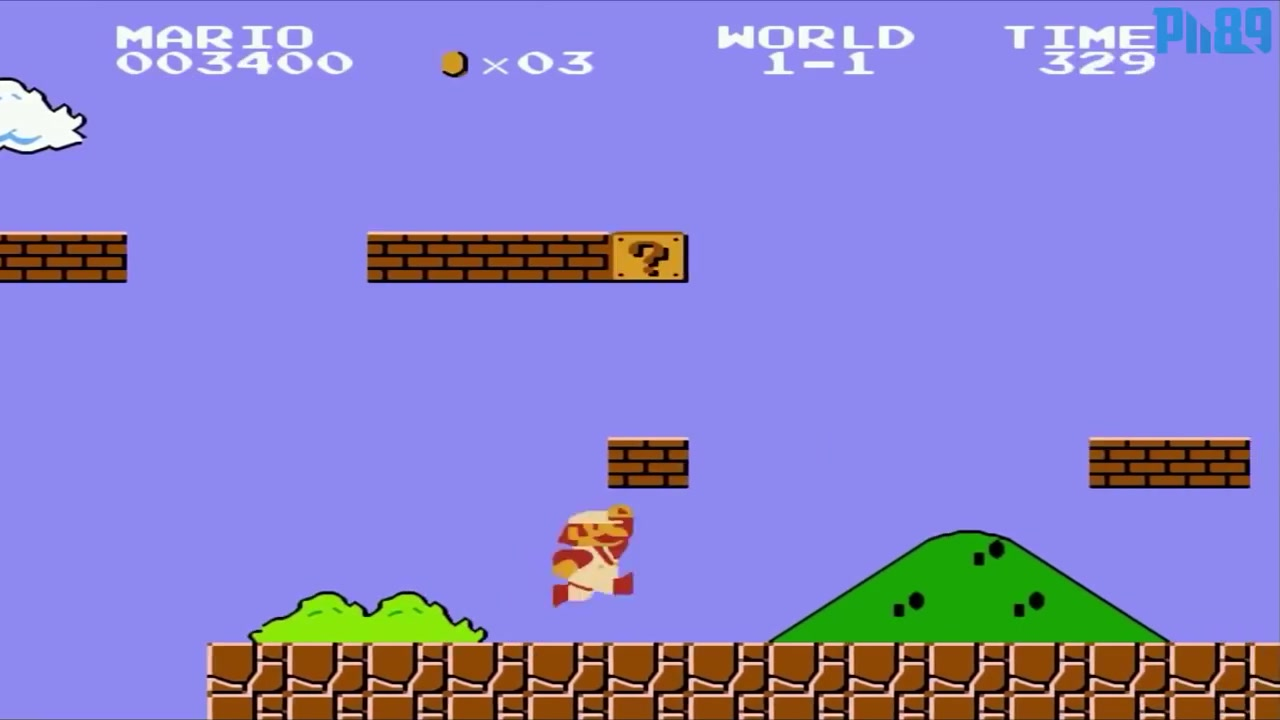mario: (549, 506, 651, 607)
